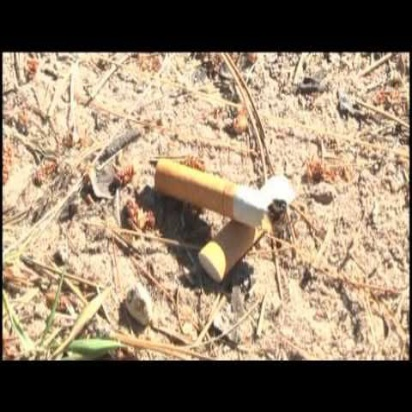cigarette: (191, 165, 299, 282), (151, 154, 293, 231)
